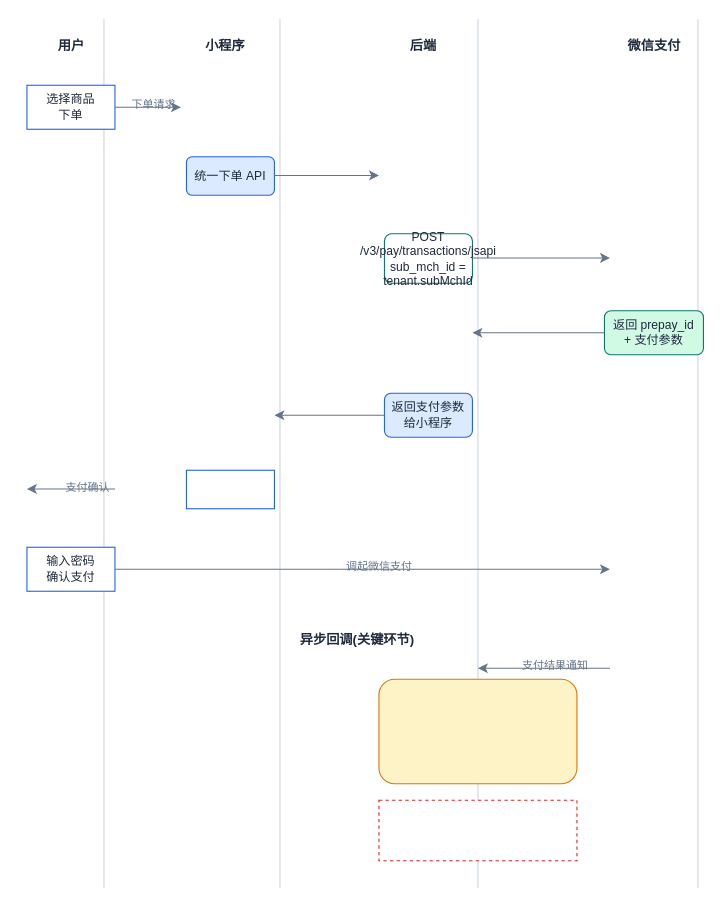
Some shapes in this 723 by 909 pixel diagram are drawn without their labels. The shapes that lost their labels are listed below. From the top down, each one's centre as x and y in pixels, then its label:
At (x=229, y=489): "拉起支付弹窗".
At (x=477, y=731): "回调处理流程: ① 解析 out_trade_no 反解租户 ② 选择该租户的商户证书+密钥验签 ③ 更新订单状态 ④ 触发分账(profit_sharing)".
At (x=477, y=830): "关键约束:回调 URL 只能配一个 必须靠订单号前缀路由租户 不信任任何 URL 参数!".
